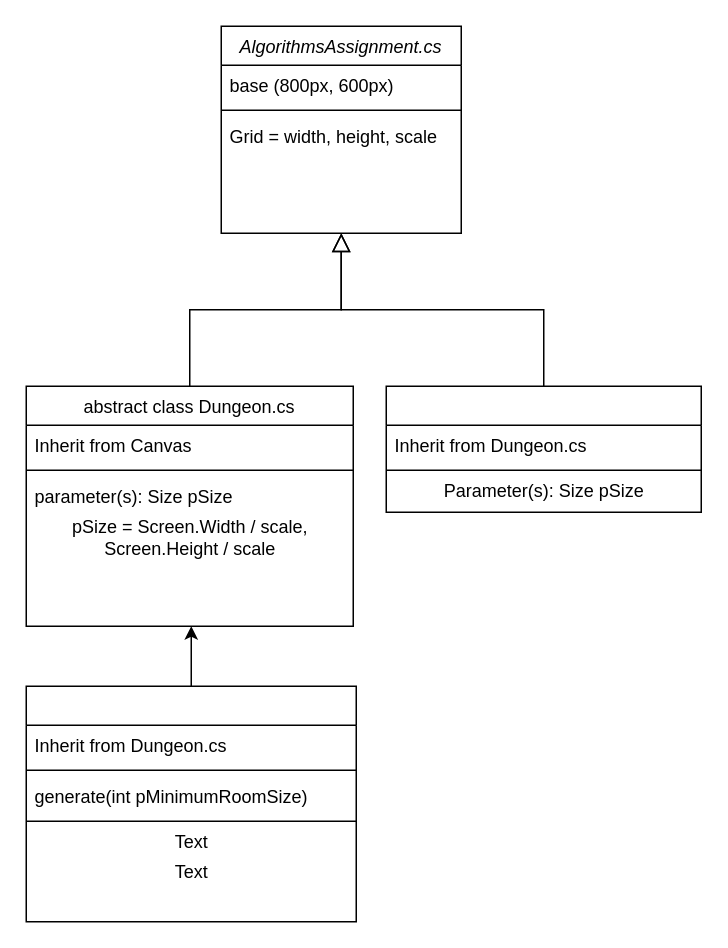
Some shapes in this 728 by 948 pixel diagram are drawn without their labels. Here are the shapes that lost their labels. From the top down, the box of each, then its label:
(385, 385, 701, 512): class SampleDungeon.cs : Dungeon
(25, 685, 356, 922): class SufficientDungeon.cs : Dungeon
